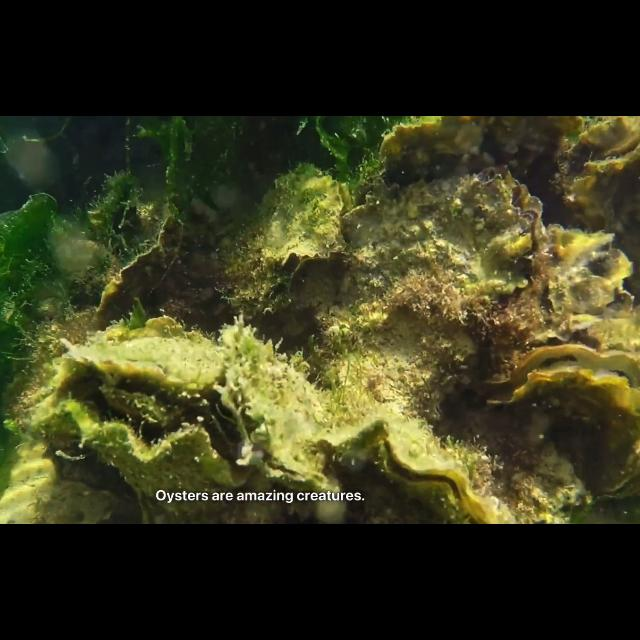Oyster-Closed: (380, 115, 568, 212), (86, 215, 216, 335)
Oyster-Open: (332, 164, 546, 422), (37, 337, 257, 513), (314, 413, 514, 525), (222, 324, 342, 498), (558, 117, 640, 303), (478, 344, 640, 434), (538, 225, 636, 338), (264, 175, 346, 278), (213, 218, 293, 322), (586, 440, 640, 504), (131, 484, 173, 524)
